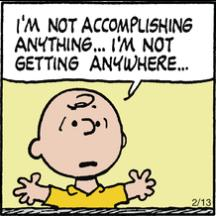charlie: (12, 86, 158, 208)
